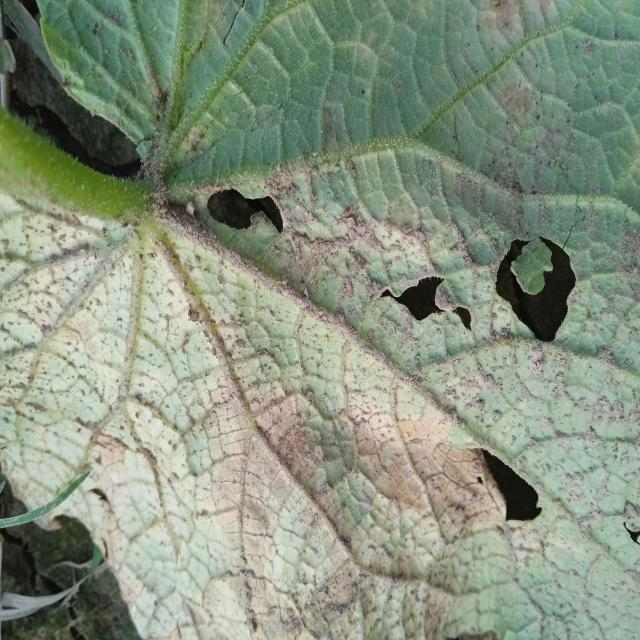cucumber_anthracnose: (57, 27, 638, 528)
